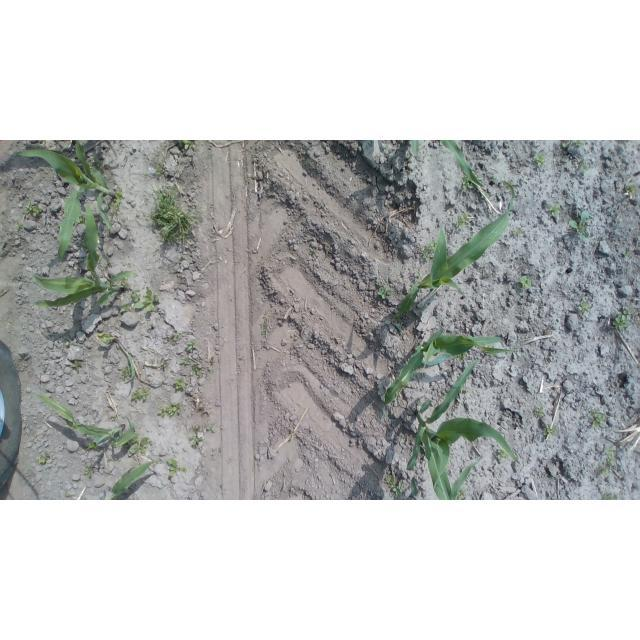Maize: (395, 180, 515, 333), (408, 362, 520, 500), (12, 140, 117, 260), (381, 329, 515, 418), (32, 201, 138, 307), (37, 394, 136, 451), (405, 141, 485, 188), (412, 458, 481, 500), (100, 460, 164, 500)
Weeds: (150, 185, 203, 244), (568, 209, 590, 243), (135, 288, 159, 312), (130, 433, 153, 455), (107, 189, 124, 216), (613, 308, 634, 329), (386, 475, 403, 498), (168, 458, 188, 477), (88, 158, 105, 179), (589, 408, 607, 426), (25, 201, 43, 218), (423, 240, 437, 261), (462, 174, 479, 189), (166, 402, 182, 416), (546, 203, 562, 217), (455, 212, 469, 228), (605, 448, 617, 466), (131, 388, 149, 400), (377, 284, 391, 299), (533, 152, 547, 166), (154, 163, 169, 176), (174, 377, 187, 390), (579, 301, 592, 314), (543, 424, 557, 436), (181, 140, 199, 149), (121, 366, 131, 381), (520, 276, 532, 288), (193, 365, 204, 378), (74, 214, 86, 225), (119, 277, 132, 287), (131, 290, 141, 303), (497, 449, 508, 460), (38, 453, 50, 463), (597, 463, 609, 473), (574, 140, 587, 149), (603, 492, 617, 500), (167, 332, 181, 340), (187, 339, 197, 350), (626, 184, 637, 194), (458, 488, 467, 500), (456, 353, 468, 362), (512, 228, 523, 237), (84, 466, 92, 478), (71, 360, 83, 368), (535, 406, 544, 416), (208, 423, 217, 433), (179, 357, 190, 365), (120, 304, 130, 312), (193, 437, 203, 445), (159, 407, 166, 418), (194, 424, 202, 433), (623, 250, 631, 259), (15, 222, 23, 230), (580, 162, 588, 170), (562, 141, 571, 148), (161, 359, 168, 367), (460, 387, 469, 393), (55, 224, 61, 231), (103, 259, 109, 265), (309, 247, 315, 252), (416, 270, 421, 276), (375, 282, 382, 286), (66, 341, 71, 346), (417, 401, 422, 406), (264, 315, 269, 320), (111, 416, 116, 420), (262, 330, 266, 335), (189, 436, 194, 440), (42, 368, 46, 372), (420, 310, 424, 314), (481, 195, 485, 199), (177, 261, 181, 264), (211, 453, 215, 456)
